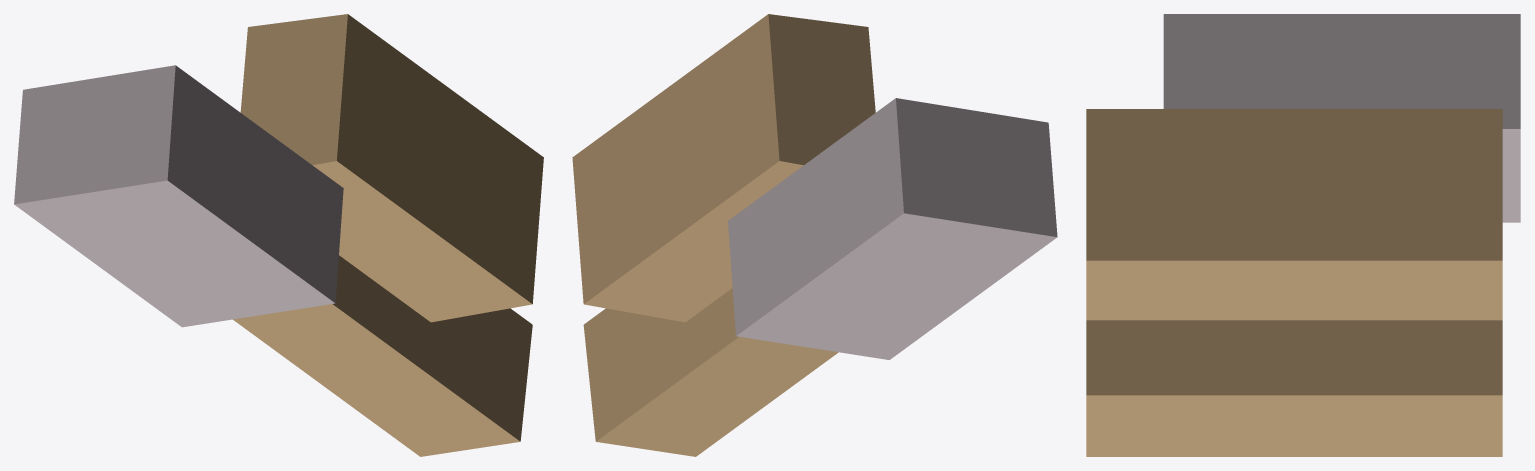
The picture shows the model from 3 angles, left to right: view 1: azimuth 30°, elevation 25°; view 2: azimuth 150°, elevation 25°; view 3: azimuth 270°, elevation 25°; orthographic projection. The views are drawn at different scales.
Parts seen in each view (by area): view 1: 0_0_3_2_0_0_1_2_0_0; view 2: 0_0_3_2_0_0_1_2_0_0; view 3: 0_0_3_2_0_0_1_2_0_0.
Part boxes in pixels (x1=…): 0_0_3_2_0_0_1_2_0_0: x1=14, y1=14, x2=543, y2=456; 0_0_3_2_0_0_1_2_0_0: x1=572, y1=14, x2=1057, y2=456; 0_0_3_2_0_0_1_2_0_0: x1=1086, y1=14, x2=1520, y2=456.
Bounding box in the file's own units: 20.14 × 17.15 × 21.9.
